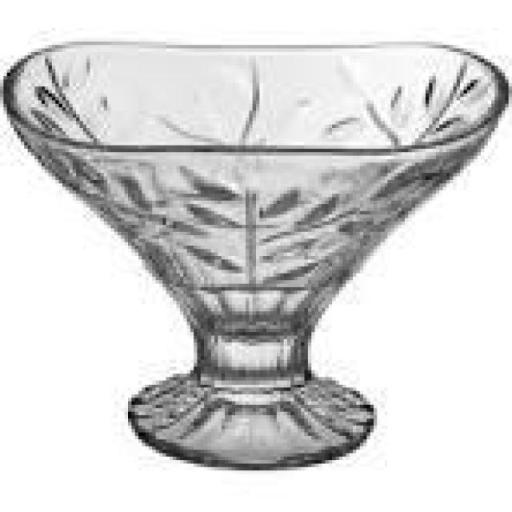glass: (0, 28, 512, 476)
